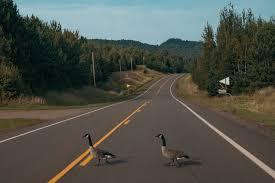goose: (153, 132, 190, 167), (80, 133, 117, 164)
